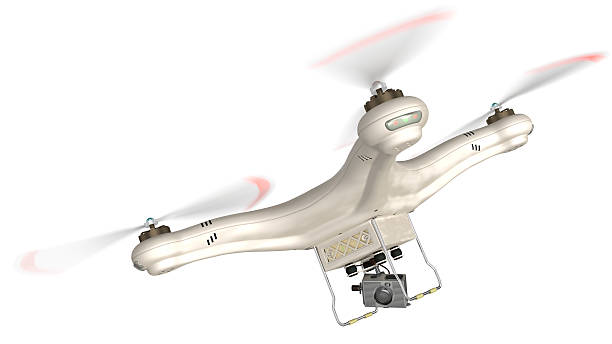Drone: (29, 9, 608, 331)
